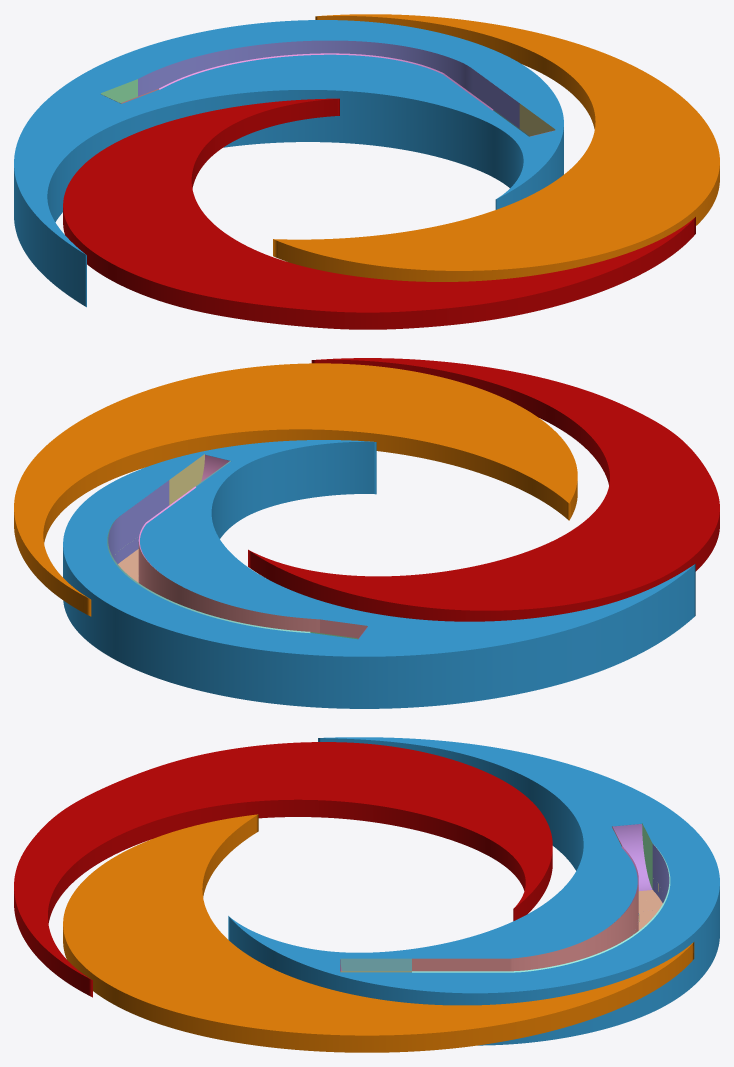
Rendered from corridor-ribbons.glb.
3 renders of one model, top to bottom at view 1: azimuth 30°, elevation 25°; view 2: azimuth 150°, elevation 25°; view 3: azimuth 270°, elevation 25°, orthographic.
Visible parts, largest first — view 1: Swoosh • Blue.001, Swoosh • Red.001, Swoosh • Orange.001, Red corridor wall • separate from logo.001, FIX | Capped Connecting plane • joins yellow tip.001, Slide A | Behind theatre marked end | Side 1.001, Slide B | Opposite corridor end | Side -1.001; view 2: Swoosh • Blue.001, Swoosh • Orange.001, Swoosh • Red.001, Connecting plane • joins yellow tip.001, Red corridor wall • separate from logo.001, Slide A | Behind theatre marked end | Side 1.001, Slide B | Opposite corridor end | Side 1.001; view 3: Swoosh • Orange.001, Swoosh • Blue.001, Swoosh • Red.001, Connecting plane • joins yellow tip.001, Slide B | Opposite corridor end.001, Slide A | Behind theatre marked end | Side -1.001, Red corridor wall • separate from logo.001, Plain floor • red to connecting plane.001, FIX | Capped Red corridor wall • separate from logo.001.
Part boxes in pixels (x1,y1,x2,y2): Swoosh • Blue.001: (14,20,563,307); Swoosh • Red.001: (63,98,695,329); Swoosh • Orange.001: (273,14,719,281); Red corridor wall • separate from logo.001: (138,40,519,128); FIX | Capped Connecting plane • joins yellow tip.001: (159,53,493,110); Slide A | Behind theatre marked end | Side 1.001: (519,103,555,136); Slide B | Opposite corridor end | Side -1.001: (101,79,137,103); Swoosh • Blue.001: (63,440,695,708); Swoosh • Orange.001: (14,363,577,616); Swoosh • Red.001: (248,358,719,621); Connecting plane • joins yellow tip.001: (138,542,319,632); Red corridor wall • separate from logo.001: (108,480,169,563); Slide A | Behind theatre marked end | Side 1.001: (169,454,204,504); Slide B | Opposite corridor end | Side 1.001: (320,619,367,638); Swoosh • Orange.001: (63,814,694,1052); Swoosh • Blue.001: (228,737,719,1045); Swoosh • Red.001: (14,742,552,997); Connecting plane • joins yellow tip.001: (412,885,638,971); Slide B | Opposite corridor end.001: (613,824,652,891); Slide A | Behind theatre marked end | Side -1.001: (340,958,411,971); Red corridor wall • separate from logo.001: (652,844,669,902); Plain floor • red to connecting plane.001: (638,890,662,930); FIX | Capped Red corridor wall • separate from logo.001: (412,844,670,972).
Bounding box in the file's own units: 399 × 33.14 × 399.
